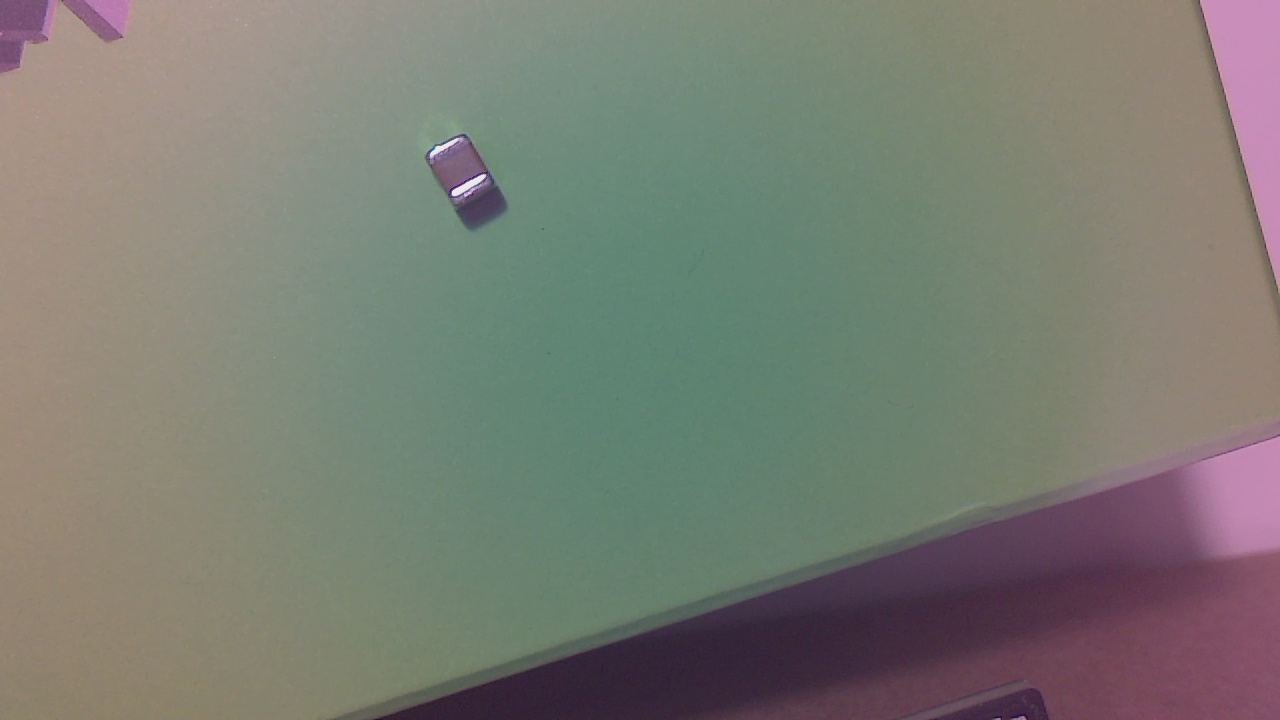Condensator: (431, 137, 501, 217)
